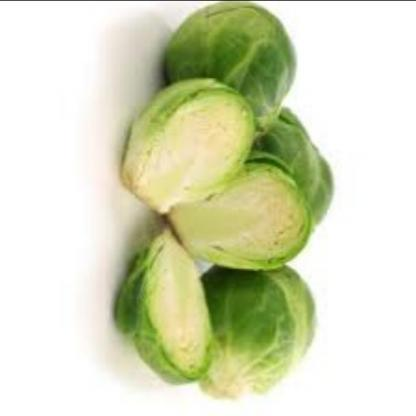brus capusta: (122, 57, 256, 211), (99, 238, 239, 376), (201, 268, 337, 398), (160, 166, 334, 260), (175, 1, 316, 117), (252, 121, 352, 231)
